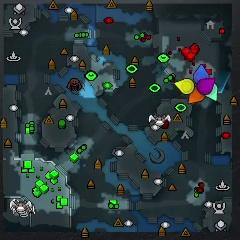p1: (193, 64, 208, 81)
p2: (206, 84, 217, 101)
p4: (173, 79, 195, 94)
p5: (189, 86, 205, 103), (197, 78, 214, 93)
